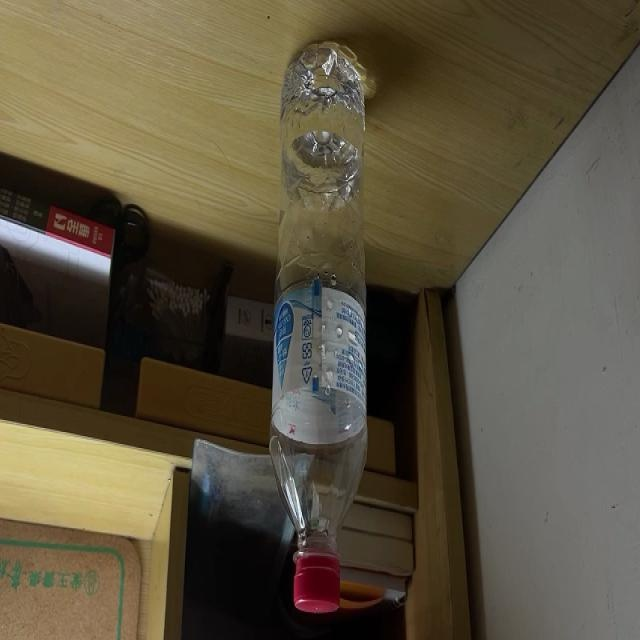Water: (268, 42, 368, 614)
